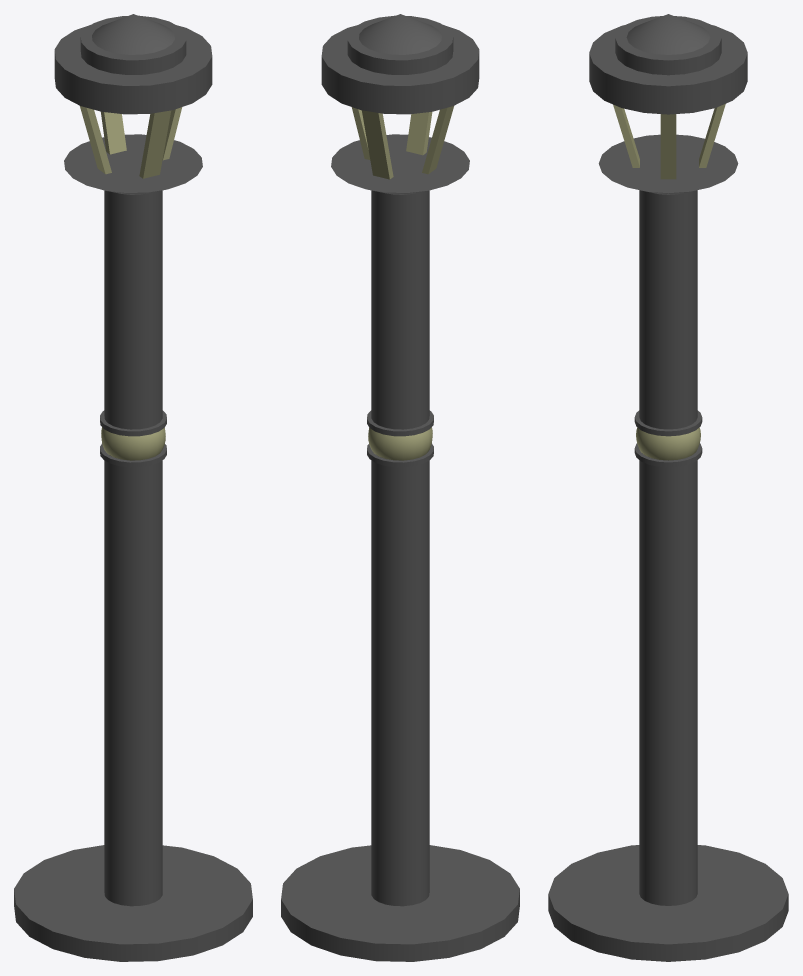
File: basic street lamp 2.fbx
3 renders of one model, left to right at view 1: azimuth 30°, elevation 25°; view 2: azimuth 150°, elevation 25°; view 3: azimuth 270°, elevation 25°, orthographic.
Visible parts, largest first — view 1: pCylinder15; view 2: pCylinder15; view 3: pCylinder15.
Boxes of the visible parts, left/top/right/bottom form: pCylinder15: left=14, top=14, right=252, bottom=961; pCylinder15: left=281, top=14, right=519, bottom=961; pCylinder15: left=548, top=14, right=788, bottom=961.
Bounding box in the file's own units: 0.8551 × 3.53 × 0.8551.
